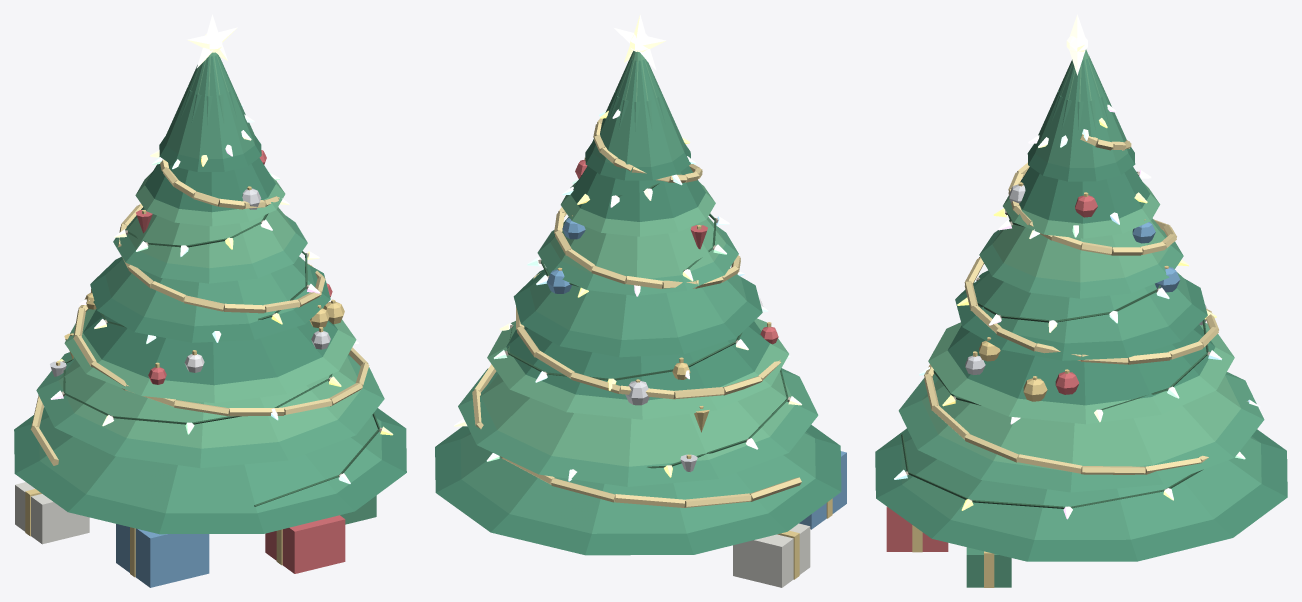
The model's file is prop_tree.glb.
The picture shows the model from 3 angles, left to right: view 1: azimuth 30°, elevation 25°; view 2: azimuth 150°, elevation 25°; view 3: azimuth 270°, elevation 25°; orthographic projection. The views are drawn at different scales.
Parts seen in each view (by area): view 1: Bough.0, Bough skirt.0, Bough.1, Tinsel.1, Bauble.3, Tree stand, Gift.2, Bauble cap.0, Light wire.1, Star point.0, Bauble.2; view 2: Bough.0, Bough skirt.0, Bough.1, Tinsel.1, Gift.2, Bauble.3, Light wire.1, Bauble cap.0, Star point.0, Bauble.2, Tree stand; view 3: Bough.0, Bough skirt.0, Bough.1, Tinsel.1, Tree stand, Light wire.1, Bauble cap.0, Bauble.3, Star point.0, Bauble.2, Bulb.1.
Part boxes in pixels (left/top/right/bottom): Bough.0: left=36, top=54, right=384, bottom=524; Bough skirt.0: left=14, top=136, right=406, bottom=534; Bough.1: left=58, top=52, right=360, bottom=448; Tinsel.1: left=30, top=156, right=369, bottom=465; Bauble.3: left=116, top=524, right=209, bottom=587; Tree stand: left=136, top=150, right=345, bottom=573; Gift.2: left=15, top=482, right=89, bottom=544; Bauble cap.0: left=25, top=186, right=344, bottom=577; Light wire.1: left=63, top=213, right=379, bottom=506; Star point.0: left=187, top=14, right=237, bottom=68; Bauble.2: left=50, top=188, right=330, bottom=376; Bough.0: left=458, top=58, right=818, bottom=533; Bough skirt.0: left=435, top=142, right=841, bottom=555; Bough.1: left=481, top=51, right=794, bottom=466; Tinsel.1: left=472, top=118, right=801, bottom=507; Gift.2: left=733, top=523, right=810, bottom=587; Bauble.3: left=546, top=218, right=846, bottom=529; Light wire.1: left=507, top=183, right=788, bottom=468; Bauble cap.0: left=557, top=157, right=832, bottom=579; Star point.0: left=614, top=14, right=666, bottom=70; Bauble.2: left=625, top=381, right=697, bottom=471; Tree stand: left=575, top=159, right=778, bottom=344; Bough.0: left=898, top=56, right=1264, bottom=587; Bough skirt.0: left=875, top=143, right=1287, bottom=561; Bough.1: left=922, top=49, right=1240, bottom=470; Tinsel.1: left=924, top=134, right=1218, bottom=474; Tree stand: left=886, top=195, right=1097, bottom=551; Light wire.1: left=901, top=172, right=1208, bottom=508; Bauble cap.0: left=912, top=182, right=1168, bottom=587; Bauble.3: left=1132, top=222, right=1180, bottom=292; Star point.0: left=1066, top=14, right=1087, bottom=75; Bauble.2: left=965, top=184, right=1207, bottom=374; Bulb.1: left=942, top=118, right=1216, bottom=510.
Bounding box in the file's own units: 2.01 × 2.78 × 2.01.
